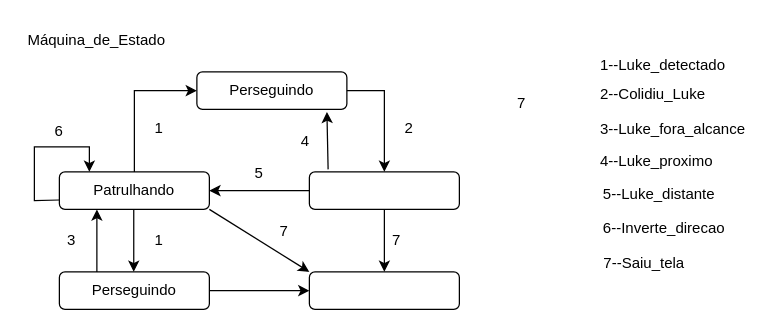
The diagram is 775 pixels wide and 331 high, and some of its shapes have lost their labels. The shapes that lost their labels are listed below. From the top down, each one's centre as x and y in pixels, then its label:
At point (383, 190): "Atacando".
At point (383, 290): "Morto".
